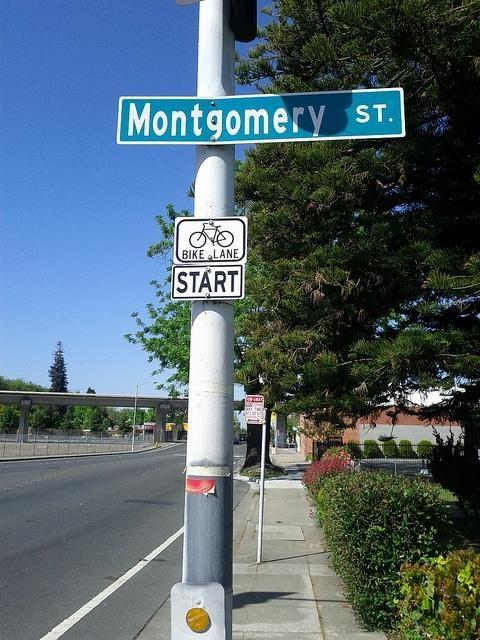bicycle: (189, 223, 235, 249)
